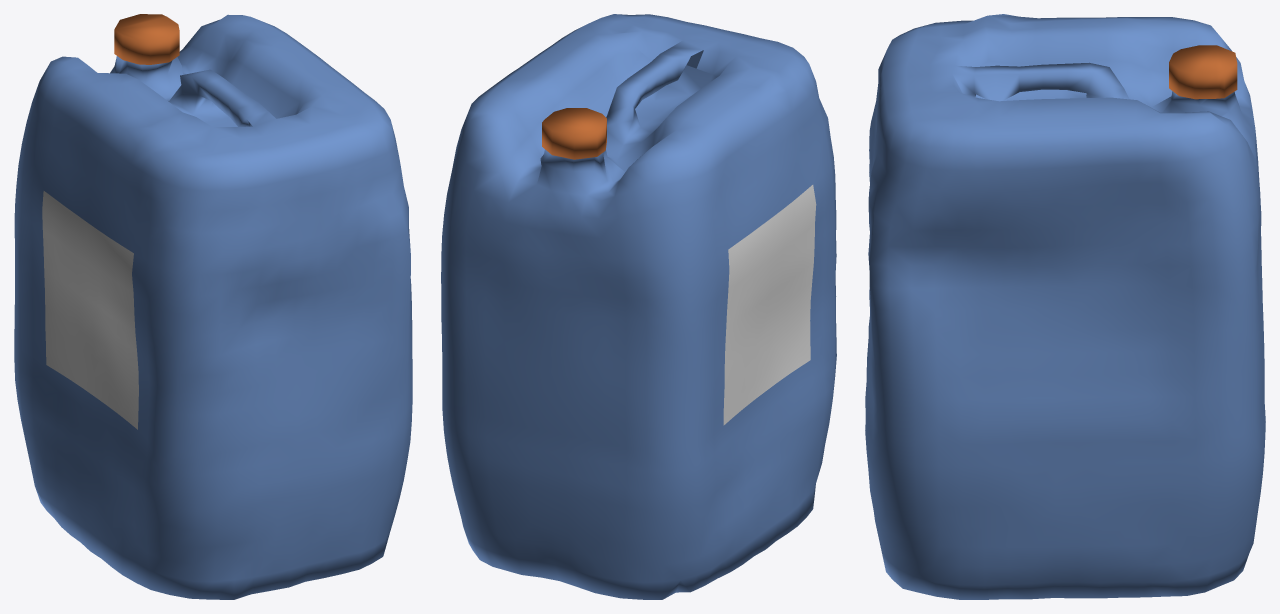
File: jerigen.fbx
The picture shows the model from 3 angles, left to right: view 1: azimuth 30°, elevation 25°; view 2: azimuth 150°, elevation 25°; view 3: azimuth 270°, elevation 25°; orthographic projection. The views are drawn at different scales.
Visible parts, largest first — view 1: jerigen; view 2: jerigen; view 3: jerigen.
Part boxes in pixels (x1=…): jerigen: x1=14, y1=14, x2=412, y2=599; jerigen: x1=441, y1=14, x2=836, y2=599; jerigen: x1=865, y1=14, x2=1265, y2=599.
Bounding box in the file's own units: 62.01 × 101 × 76.53.
